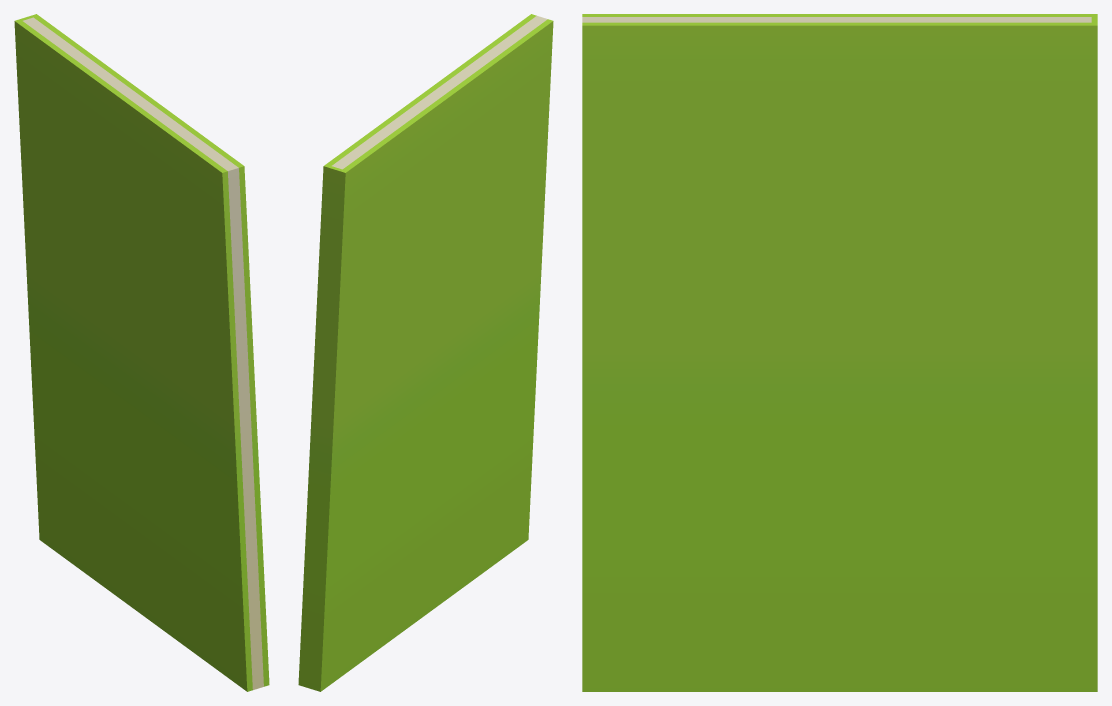
File: Pfb_JLAB_Copybook.fbx
3 renders of one model, left to right at view 1: azimuth 30°, elevation 25°; view 2: azimuth 150°, elevation 25°; view 3: azimuth 270°, elevation 25°, orthographic. The views are drawn at different scales.
Parts seen in each view (by area): view 1: Color; view 2: Color; view 3: Color.
Boxes of the visible parts, x1,y1,x2,y2 form: Color: [14, 14, 269, 691]; Color: [298, 14, 553, 691]; Color: [582, 14, 1097, 691].
Size of the model in its own units: 2.82 by 30.05 by 21.5.
Materials: 1 (1 with a texture image).
